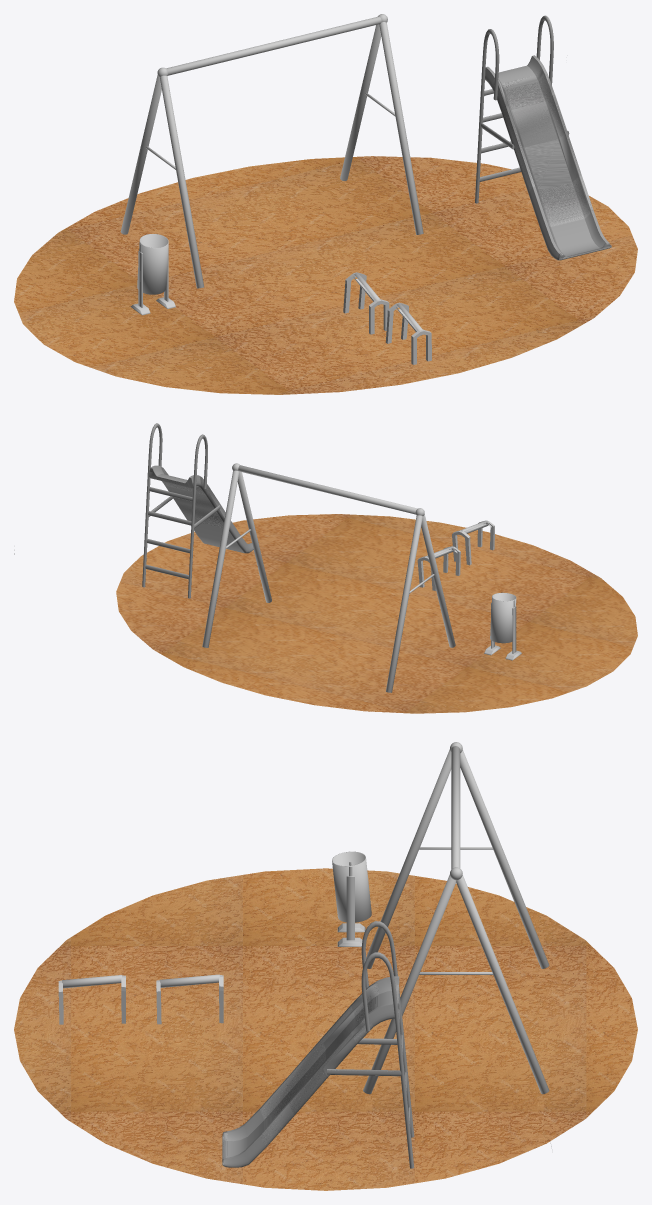
The model's file is AreaInfantil.fbx.
The picture shows the model from 3 angles, top to bottom: view 1: azimuth 30°, elevation 25°; view 2: azimuth 150°, elevation 25°; view 3: azimuth 270°, elevation 25°; orthographic projection. The views are drawn at different scales.
Visible parts, largest first — view 1: Cylinder, slide, Playground1, Basura, Base, Base_001; view 2: Cylinder, Playground1, slide, Basura, Base, Base_001; view 3: Cylinder, slide, Playground1, Basura, Base_001, Base.
Boxes of the visible parts, left/top/right/bottom form: Cylinder: left=14, top=156, right=637, bottom=394; slide: left=475, top=15, right=611, bottom=260; Playground1: left=120, top=14, right=423, bottom=288; Basura: left=130, top=234, right=175, bottom=315; Base: left=385, top=302, right=431, bottom=364; Base_001: left=343, top=272, right=389, bottom=334; Cylinder: left=116, top=514, right=637, bottom=713; Playground1: left=14, top=463, right=455, bottom=692; slide: left=142, top=423, right=253, bottom=598; Basura: left=484, top=592, right=521, bottom=660; Base: left=452, top=520, right=494, bottom=565; Base_001: left=417, top=546, right=460, bottom=590; Cylinder: left=14, top=868, right=637, bottom=1190; slide: left=222, top=921, right=414, bottom=1168; Playground1: left=363, top=742, right=551, bottom=1146; Basura: left=332, top=851, right=371, bottom=946; Base_001: left=156, top=974, right=223, bottom=1024; Base: left=58, top=975, right=125, bottom=1024.
Size of the model in its own units: 11.75 by 3.52 by 8.76.
